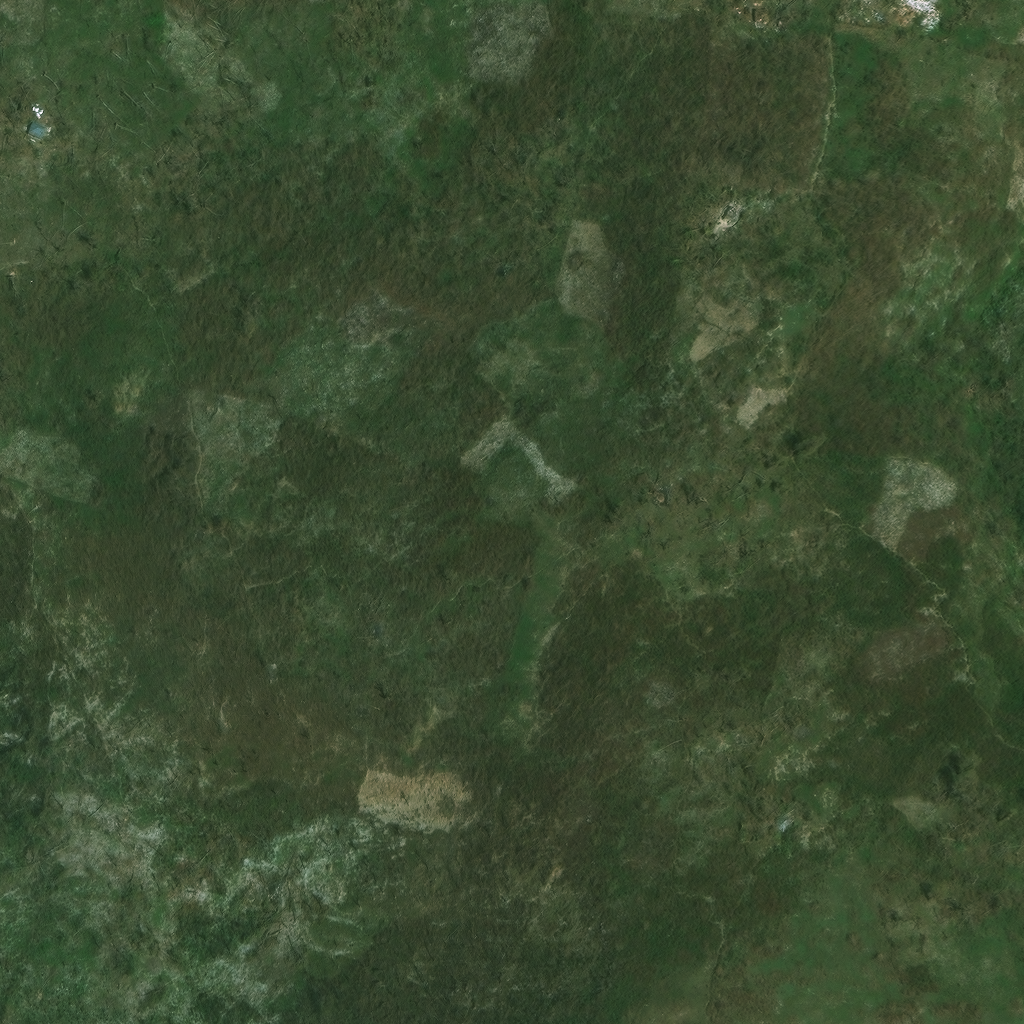destroyed: (893, 5, 913, 22), (784, 807, 802, 825), (723, 203, 740, 221), (736, 726, 753, 741), (866, 2, 880, 16)
minor_damage: (36, 112, 59, 133)
